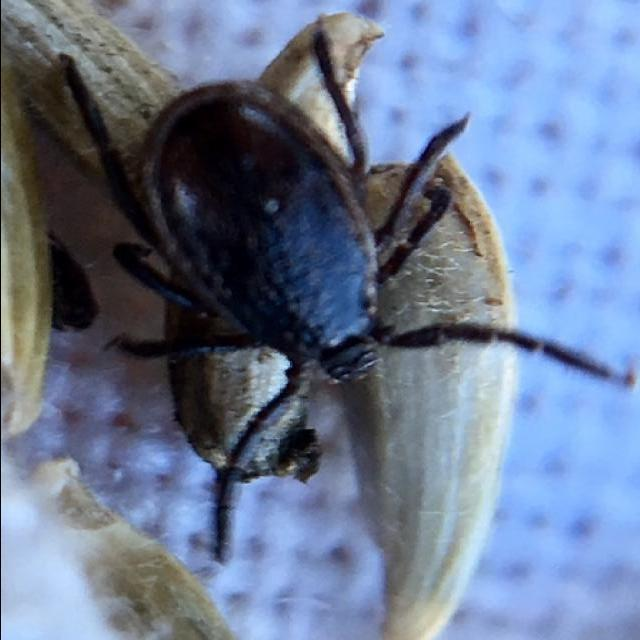Ixodes Ricinus-M: (61, 22, 634, 566)
